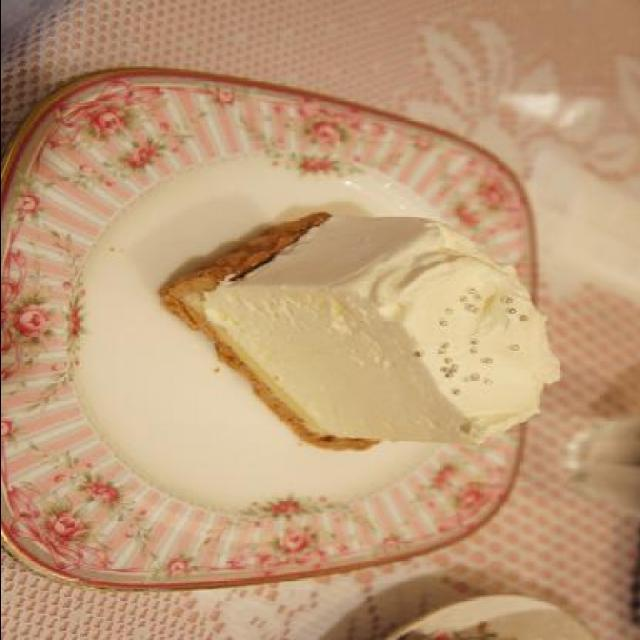Rare cheese cake: (132, 175, 570, 493)
